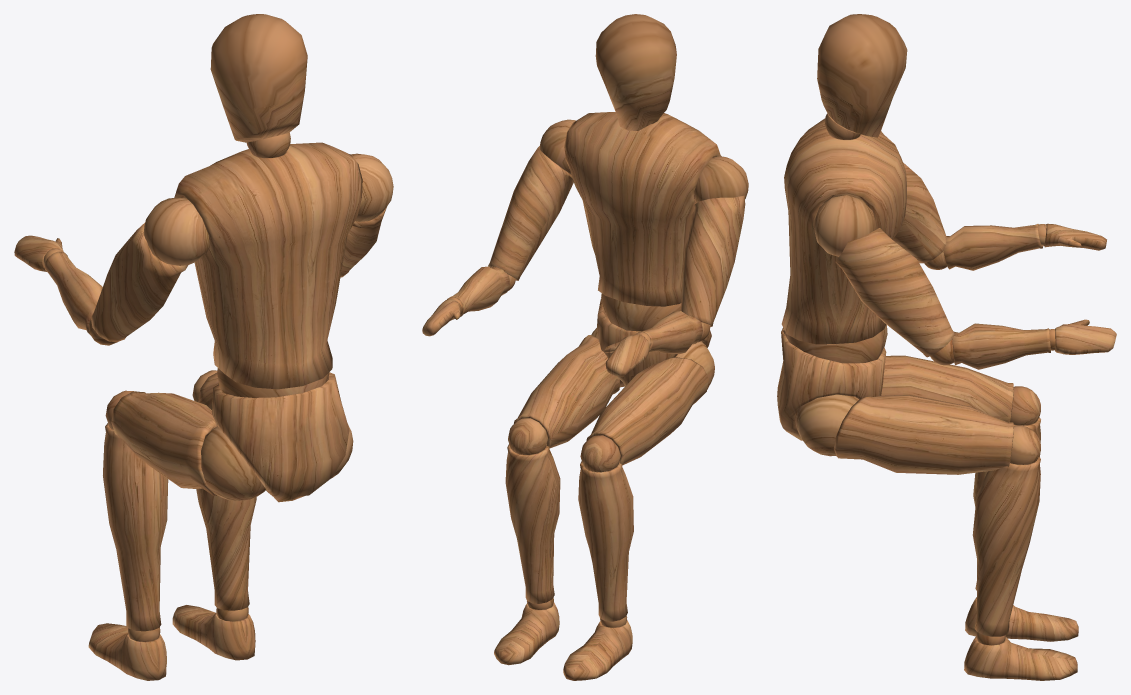
Rendered from 323.parts.obj.
3 views of the same model, side by side, from view 1: azimuth 30°, elevation 25°; view 2: azimuth 150°, elevation 25°; view 3: azimuth 270°, elevation 25° (orthographic). The views are drawn at different scales.
Parts seen in each view (by area): view 1: chest/back_11, butt_7, head_14, right_thigh_23, right_shin_24, right_arm_21, left_shin_19, right_shoulder_8, right_foot_26, left_foot_27, right_forearm_13, left_shoulder_9 (+5 smaller); view 2: chest/back_11, right_thigh_23, head_14, right_shin_24, left_shin_19, left_thigh_18, right_arm_21, left_arm_16, right_foot_26, left_foot_27, right_shoulder_8, right_forearm_13 (+8 smaller); view 3: chest/back_11, left_thigh_18, left_shin_19, head_14, left_arm_16, butt_7, right_thigh_23, left_foot_27, left_forearm_12, right_forearm_13, right_arm_21, left_shoulder_9 (+6 smaller).
Boxes of the visible parts, x1,y1,x2,y2 form: chest/back_11: (174, 142, 362, 389); butt_7: (212, 372, 349, 502); head_14: (210, 14, 307, 142); right_thigh_23: (111, 391, 265, 500); right_shin_24: (103, 423, 168, 631); right_arm_21: (91, 222, 188, 342); left_shin_19: (196, 488, 256, 610); right_shoulder_8: (143, 197, 209, 265); right_foot_26: (88, 623, 166, 680); left_foot_27: (172, 605, 255, 660); right_forearm_13: (44, 251, 102, 334); left_shoulder_9: (350, 153, 393, 221); chest/back_11: (564, 112, 721, 306); right_thigh_23: (586, 341, 714, 465); head_14: (595, 14, 676, 130); right_shin_24: (578, 461, 633, 621); left_shin_19: (505, 444, 560, 603); left_thigh_18: (514, 328, 624, 448); right_arm_21: (681, 195, 745, 326); left_arm_16: (488, 146, 573, 280); right_foot_26: (563, 620, 632, 680); left_foot_27: (494, 602, 559, 665); right_shoulder_8: (694, 156, 748, 202); right_forearm_13: (638, 311, 702, 354); chest/back_11: (781, 118, 906, 344); left_thigh_18: (795, 394, 1013, 474); left_shin_19: (972, 456, 1040, 636); head_14: (817, 14, 907, 137); left_arm_16: (835, 228, 954, 357); butt_7: (777, 327, 886, 440); right_thigh_23: (881, 355, 1013, 422); left_foot_27: (964, 636, 1077, 680); left_forearm_12: (952, 323, 1050, 369); right_forearm_13: (943, 224, 1043, 270); right_arm_21: (893, 162, 946, 263); left_shoulder_9: (813, 195, 876, 256).
Size of the model in its own units: 0.575 by 1.46 by 0.7079.
1 material, 1 textured.
